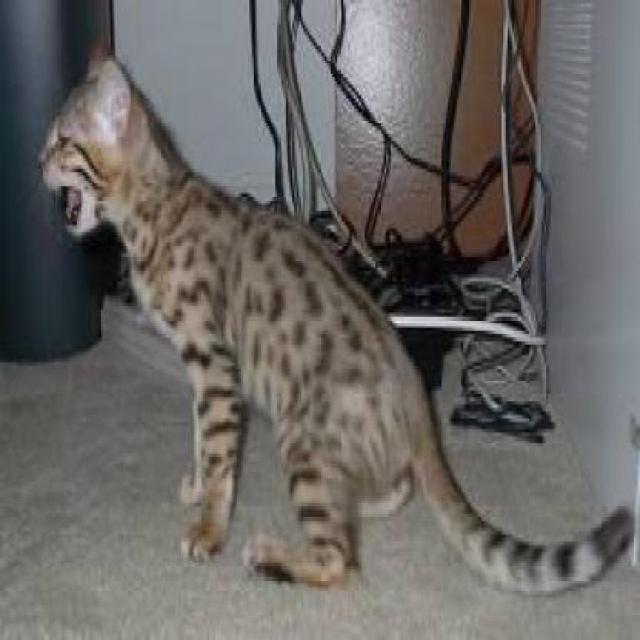cat: (34, 36, 635, 602)
